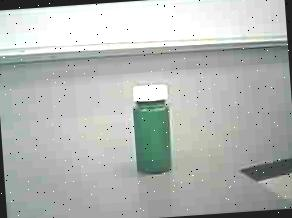Bottle C: (119, 75, 188, 185)
